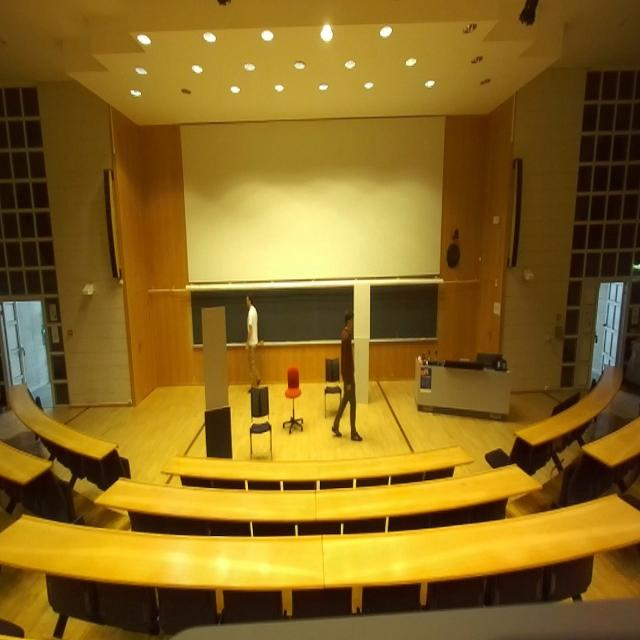person: (332, 310, 362, 442), (246, 294, 262, 394)
